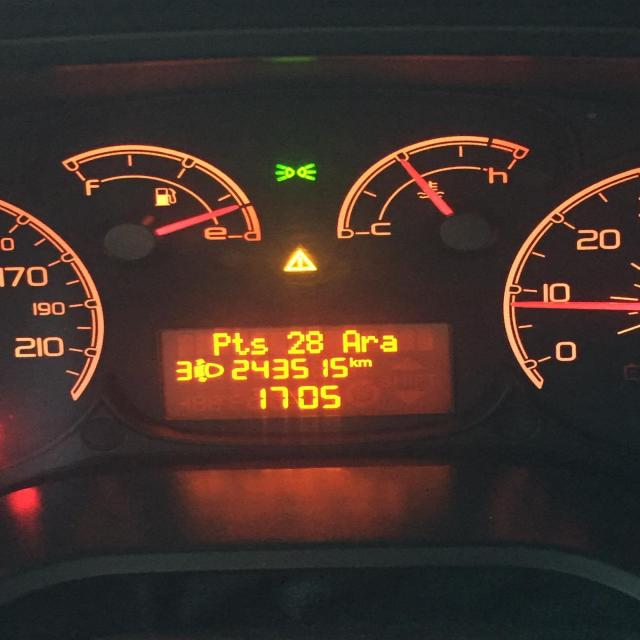odometer: (160, 322, 454, 416)
